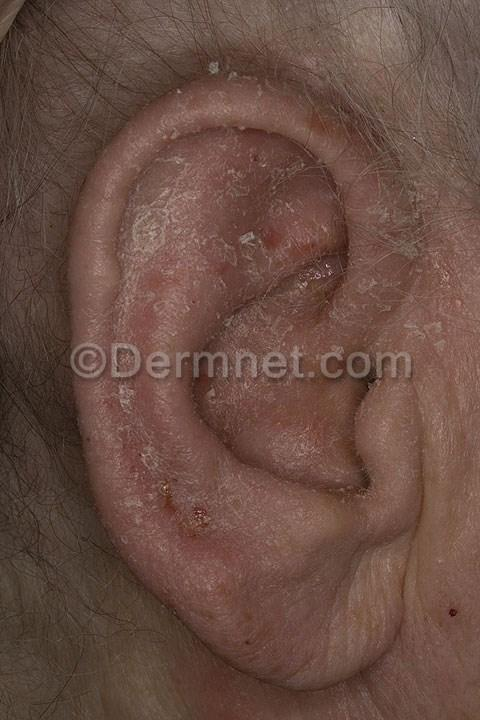Eczema: (336, 114, 460, 318), (92, 419, 198, 543), (212, 207, 309, 291)
